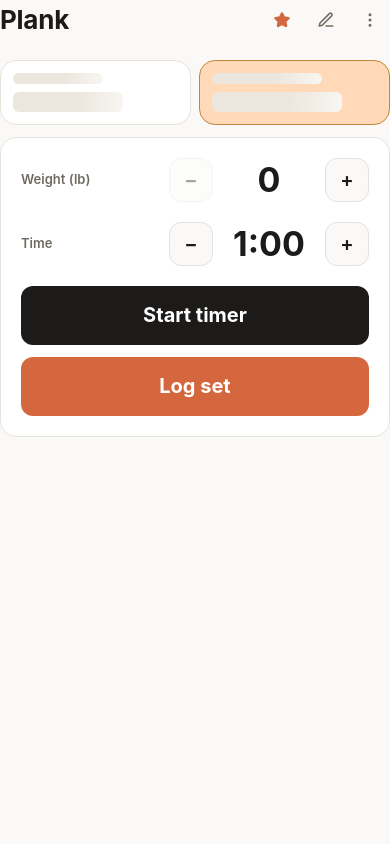
it: ExerciseDetail duration-tracked exercises › opens the duration picker instead of a keyboard when the time is tapped
Click the field named "Time": (269, 244) [225,223,313,265]
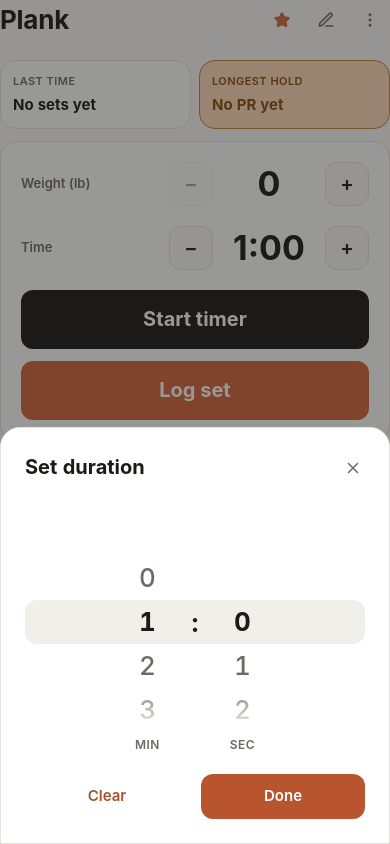
Expected: the dialog is shown, [0,427,389,843]
Expected: the list named "Minutes" is shown, [139,562,156,725]
Expected: the list named "Seconds" is shown, [234,606,251,725]
